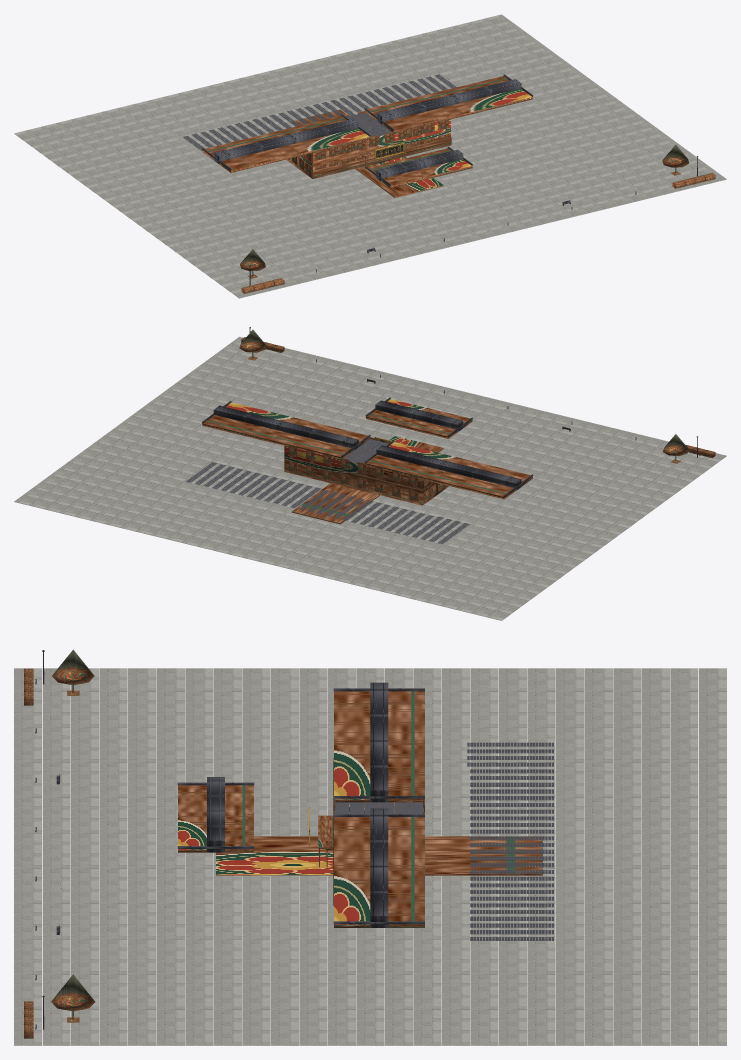
3 renders of one model, top to bottom at view 1: azimuth 30°, elevation 25°; view 2: azimuth 150°, elevation 25°; view 3: azimuth 270°, elevation 25°, orthographic. The views are drawn at different scales.
Visible parts, largest first — view 1: 11710_01_05769_045_01__plinth_ground_base, 11710_01_05769_045_02__mass_body_facade, 11710_01_05769_045_03__roof_metal_ornament, 11710_01_05769_045_03__roof_deck_structure, 11710_01_05769_045_06__landscape_greenery, 11710_01_05769_045_05__window_sash_glass; view 2: 11710_01_05769_045_01__plinth_ground_base, 11710_01_05769_045_02__mass_body_facade, 11710_01_05769_045_03__roof_deck_structure, 11710_01_05769_045_03__roof_metal_ornament, 11710_01_05769_045_06__landscape_greenery; view 3: 11710_01_05769_045_01__plinth_ground_base, 11710_01_05769_045_02__mass_body_facade, 11710_01_05769_045_03__roof_deck_structure, 11710_01_05769_045_03__roof_metal_ornament, 11710_01_05769_045_06__landscape_greenery.
Boxes of the visible parts, x1,y1,x2,y2 form: 11710_01_05769_045_01__plinth_ground_base: (14,14,726,298); 11710_01_05769_045_02__mass_body_facade: (202,76,532,197); 11710_01_05769_045_03__roof_metal_ornament: (202,74,533,185); 11710_01_05769_045_03__roof_deck_structure: (183,74,456,150); 11710_01_05769_045_06__landscape_greenery: (240,144,715,293); 11710_01_05769_045_05__window_sash_glass: (315,118,448,169); 11710_01_05769_045_01__plinth_ground_base: (14,336,726,620); 11710_01_05769_045_02__mass_body_facade: (202,399,532,524); 11710_01_05769_045_03__roof_deck_structure: (186,439,469,543); 11710_01_05769_045_03__roof_metal_ornament: (202,397,533,496); 11710_01_05769_045_06__landscape_greenery: (239,329,715,463); 11710_01_05769_045_01__plinth_ground_base: (14,668,726,1045); 11710_01_05769_045_02__mass_body_facade: (178,691,542,927); 11710_01_05769_045_03__roof_deck_structure: (335,742,553,940); 11710_01_05769_045_03__roof_metal_ornament: (177,682,424,927); 11710_01_05769_045_06__landscape_greenery: (24,649,95,1038).
Size of the model in its own units: 120 by 8.6 by 95.95.
Materials: 7 (7 with a texture image).
